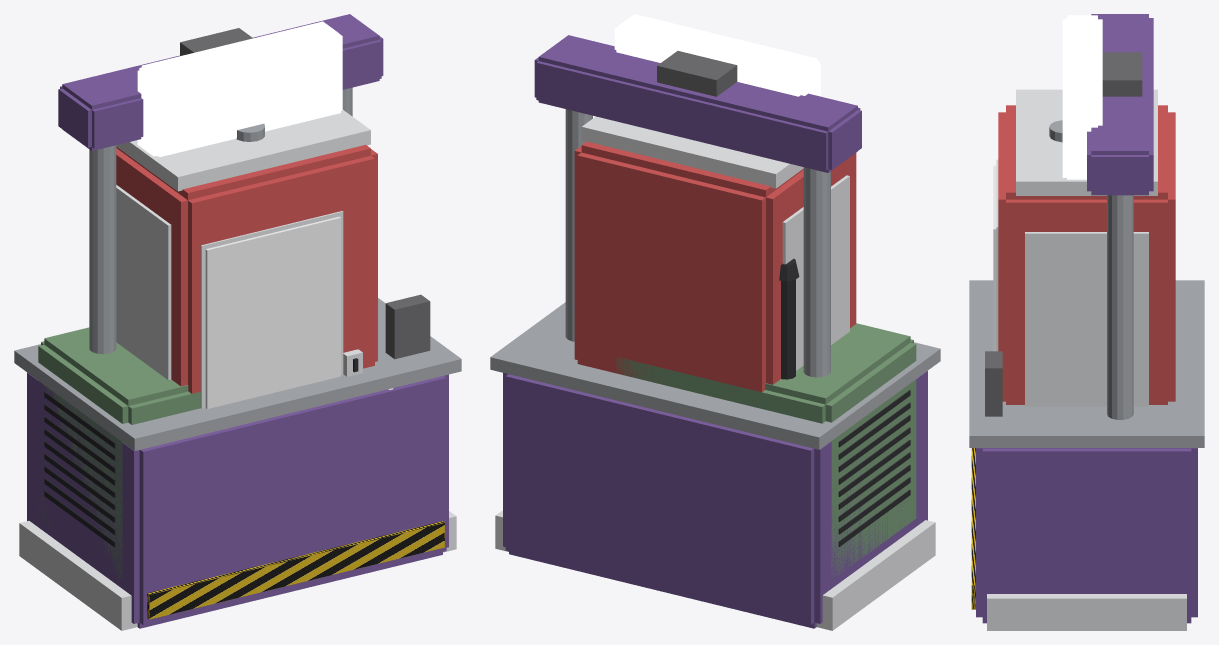
Rendered from machines.glb.
The picture shows the model from 3 angles, left to right: view 1: azimuth 30°, elevation 25°; view 2: azimuth 150°, elevation 25°; view 3: azimuth 270°, elevation 25°; orthographic projection. The views are drawn at different scales.
Parts seen in each view (by area): view 1: PapBase, PerkBody, PerkFront, GenBase, PerkSign; view 2: PapBase, PerkBody, GenBase, PerkSign; view 3: PapBase, PerkBody, GenBase, PerkSign, PerkFront.
Part boxes in pixels (x1,y1,x2,y2): PapBase: (14, 14, 461, 628); PerkBody: (116, 110, 377, 393); PerkFront: (200, 211, 343, 408); GenBase: (19, 327, 456, 630); PerkSign: (137, 21, 342, 156); PapBase: (490, 35, 940, 628); PerkBody: (574, 116, 856, 395); GenBase: (495, 258, 935, 630); PerkSign: (614, 14, 820, 96); PapBase: (969, 14, 1204, 623); PerkBody: (998, 89, 1175, 406); GenBase: (987, 594, 1186, 630); PerkSign: (1062, 15, 1102, 179); PerkFront: (993, 159, 998, 351).
Size of the model in its own units: 1.7 by 2.45 by 1.06.
12 materials, 2 textured.
